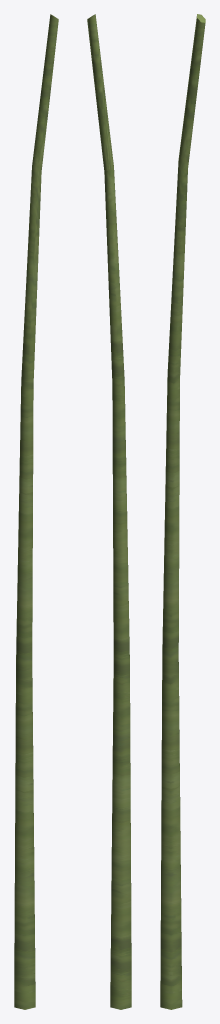
File: plant2_stem.obj
3 views of the same model, side by side, from view 1: azimuth 30°, elevation 25°; view 2: azimuth 150°, elevation 25°; view 3: azimuth 330°, elevation 25° (orthographic).
Visible parts, largest first — view 1: Mesh; view 2: Mesh; view 3: Mesh.
Boxes of the visible parts, x1,y1,x2,y2 form: Mesh: (14, 14, 58, 1009); Mesh: (87, 14, 131, 1009); Mesh: (160, 14, 205, 1009).
Bounding box in the file's own units: 0.0205 × 0.4332 × 0.00859.
